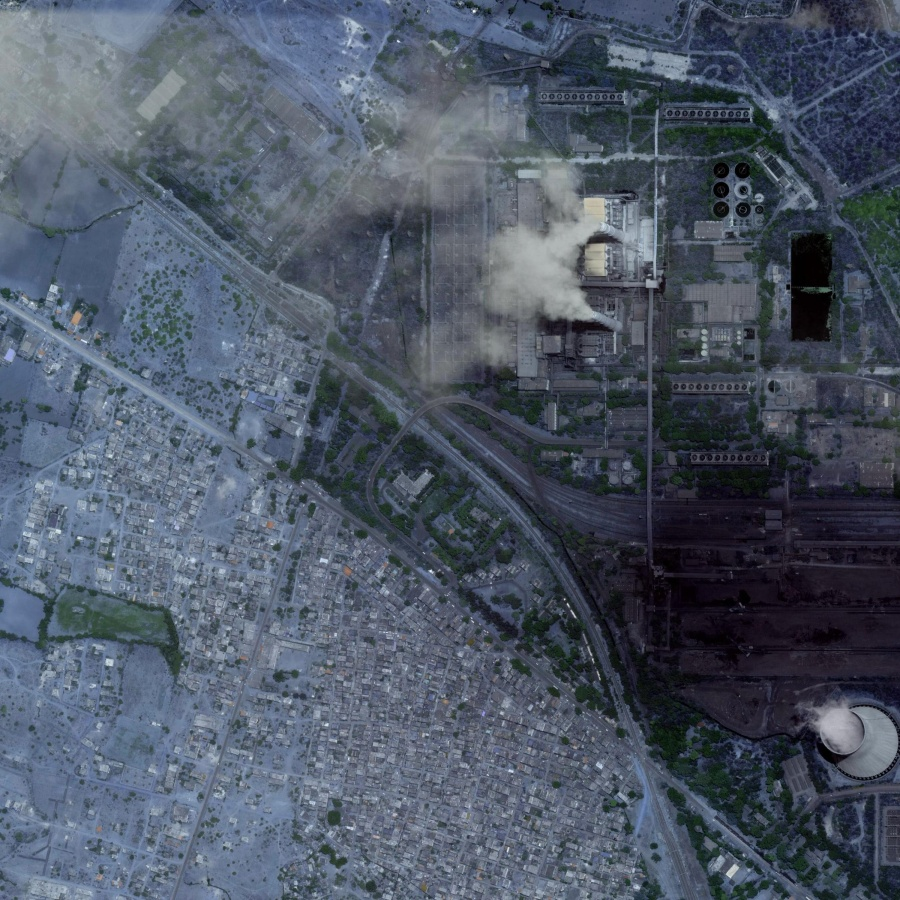PowerPlant: (433, 82, 705, 402)
